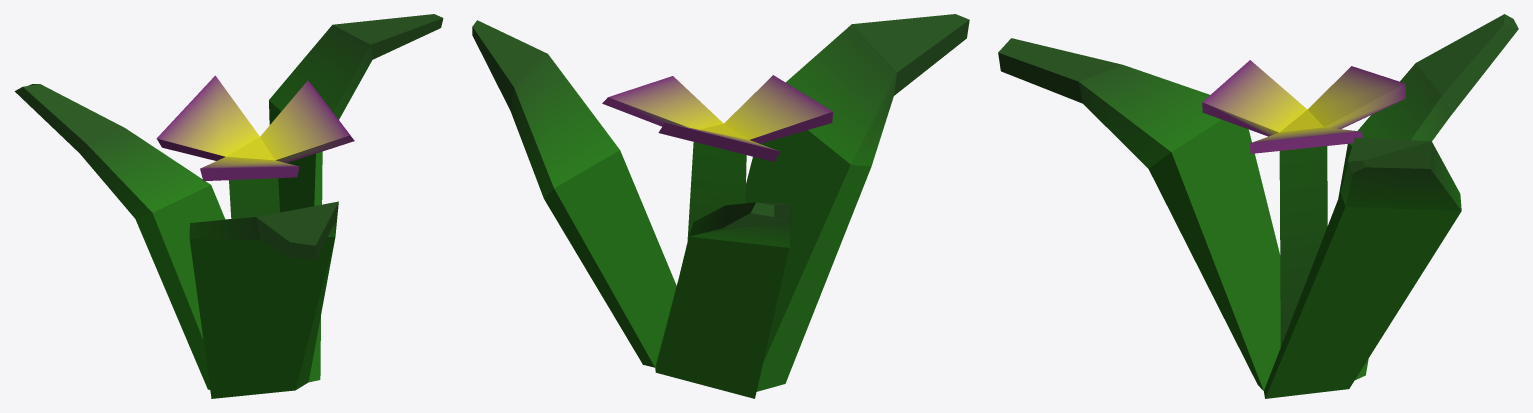
File: medium-flower.fbx
3 views of the same model, side by side, from view 1: azimuth 30°, elevation 25°; view 2: azimuth 150°, elevation 25°; view 3: azimuth 270°, elevation 25° (orthographic). The views are drawn at different scales.
Parts seen in each view (by area): view 1: MediumFlower; view 2: MediumFlower; view 3: MediumFlower.
Boxes of the visible parts, x1,y1,x2,y2 form: MediumFlower: (14, 14, 443, 398); MediumFlower: (472, 14, 969, 398); MediumFlower: (998, 14, 1518, 398).
Size of the model in its own units: 0.2014 by 0.1658 by 0.2345.
